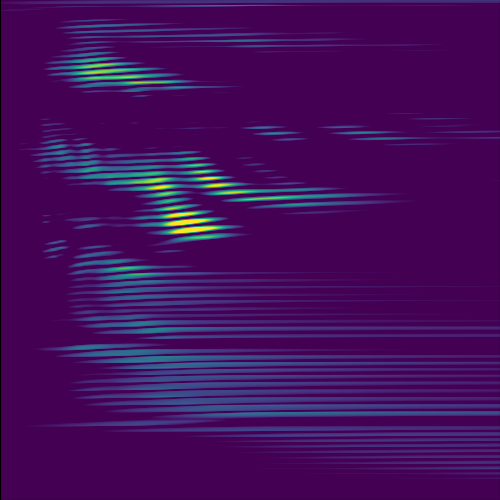semblance: (75, 47, 154, 91), (157, 207, 231, 244), (143, 169, 182, 197)
